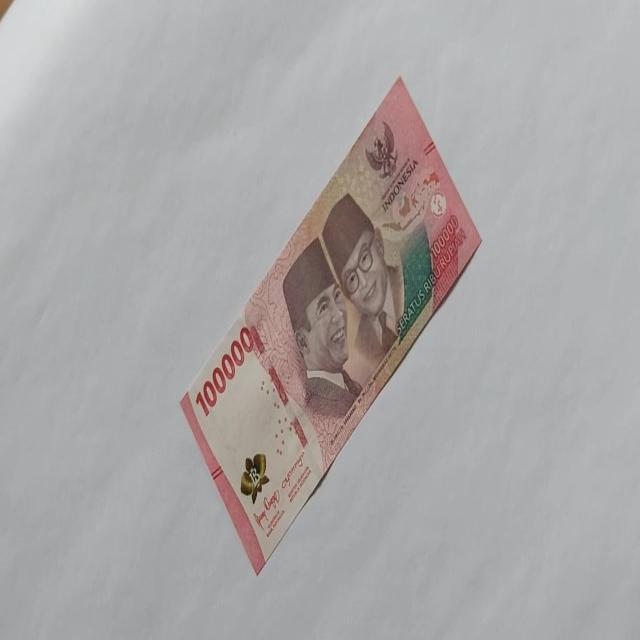Kertas: (179, 74, 483, 575), (194, 324, 254, 418)
